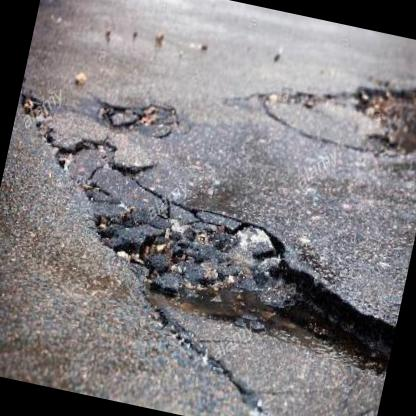pothole: (0, 85, 416, 416), (338, 62, 416, 163), (90, 88, 182, 145)
